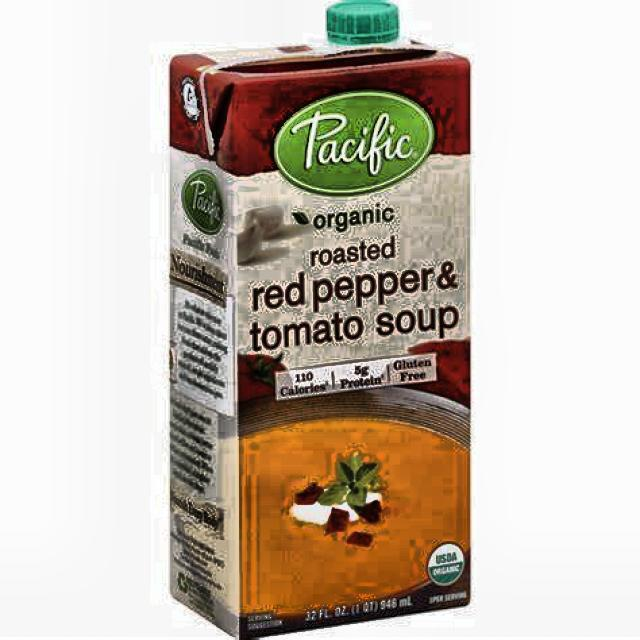cardboard: (166, 28, 473, 639)
